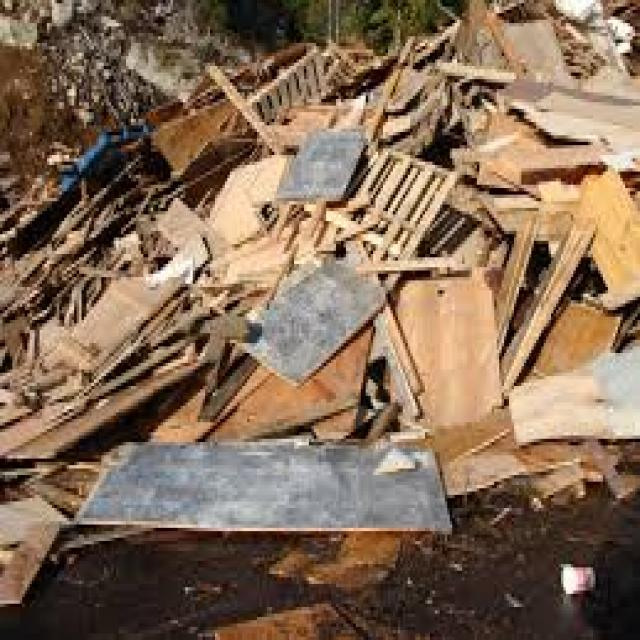green waste: (1, 12, 640, 615)
